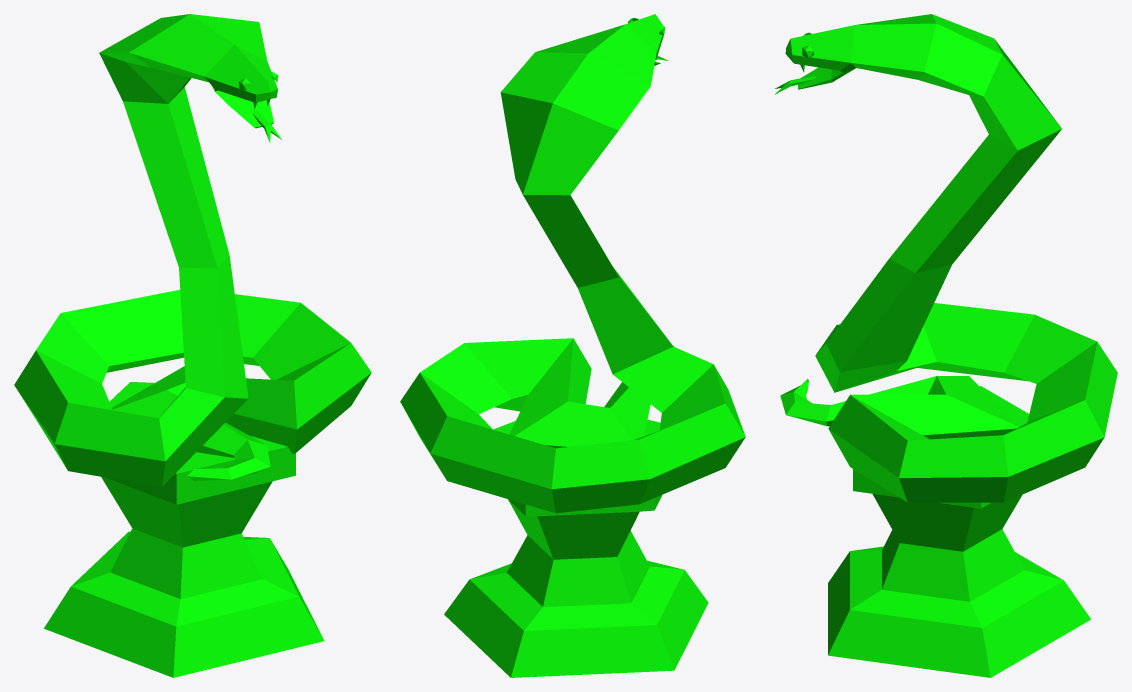
The model's file is SM_Battlemap_Figurine_Snake_Fantasy.fbx.
3 renders of one model, left to right at view 1: azimuth 30°, elevation 25°; view 2: azimuth 150°, elevation 25°; view 3: azimuth 270°, elevation 25°, orthographic. The views are drawn at different scales.
Parts seen in each view (by area): view 1: battlemap-figurine-snake-fantasy; view 2: battlemap-figurine-snake-fantasy; view 3: battlemap-figurine-snake-fantasy.
Boxes of the visible parts, left/top/right/bottom form: battlemap-figurine-snake-fantasy: left=14, top=14, right=371, bottom=677; battlemap-figurine-snake-fantasy: left=400, top=14, right=745, bottom=677; battlemap-figurine-snake-fantasy: left=774, top=14, right=1117, bottom=677.
Bounding box in the file's own units: 0.1966 × 0.3618 × 0.1897.
